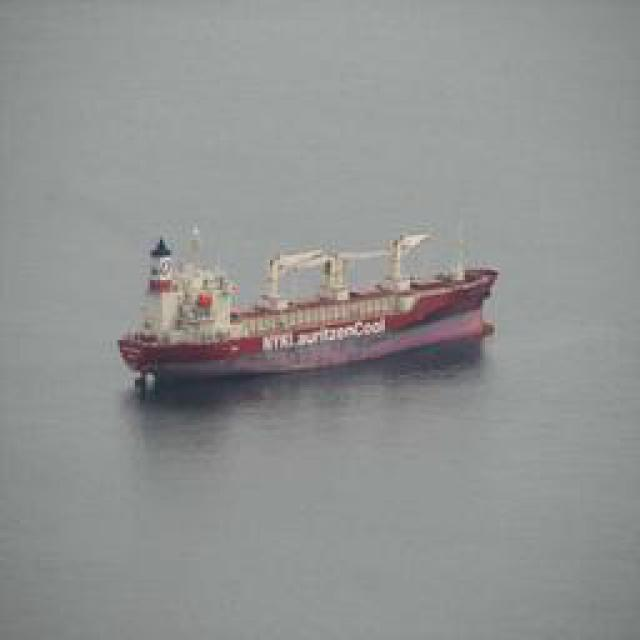Ship: (121, 230, 496, 393)
